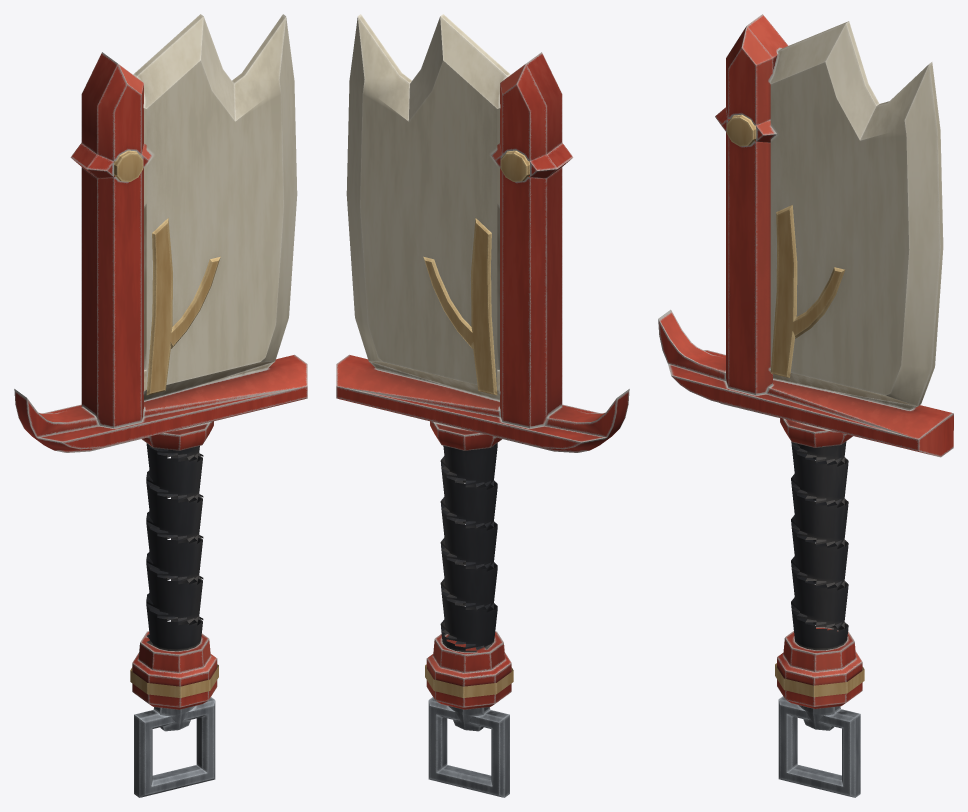
File: Warlink_CleaverR.fbx
The picture shows the model from 3 angles, left to right: view 1: azimuth 30°, elevation 25°; view 2: azimuth 150°, elevation 25°; view 3: azimuth 330°, elevation 25°; orthographic projection.
Parts seen in each view (by area): view 1: Warlink_CleaverR; view 2: Warlink_CleaverR; view 3: Warlink_CleaverR.
Boxes of the visible parts, x1=… form: Warlink_CleaverR: x1=14, y1=14, x2=307, y2=797; Warlink_CleaverR: x1=336, y1=14, x2=629, y2=797; Warlink_CleaverR: x1=658, y1=14, x2=953, y2=797.
Size of the model in its own units: 1.02 by 2.66 by 0.2605.
